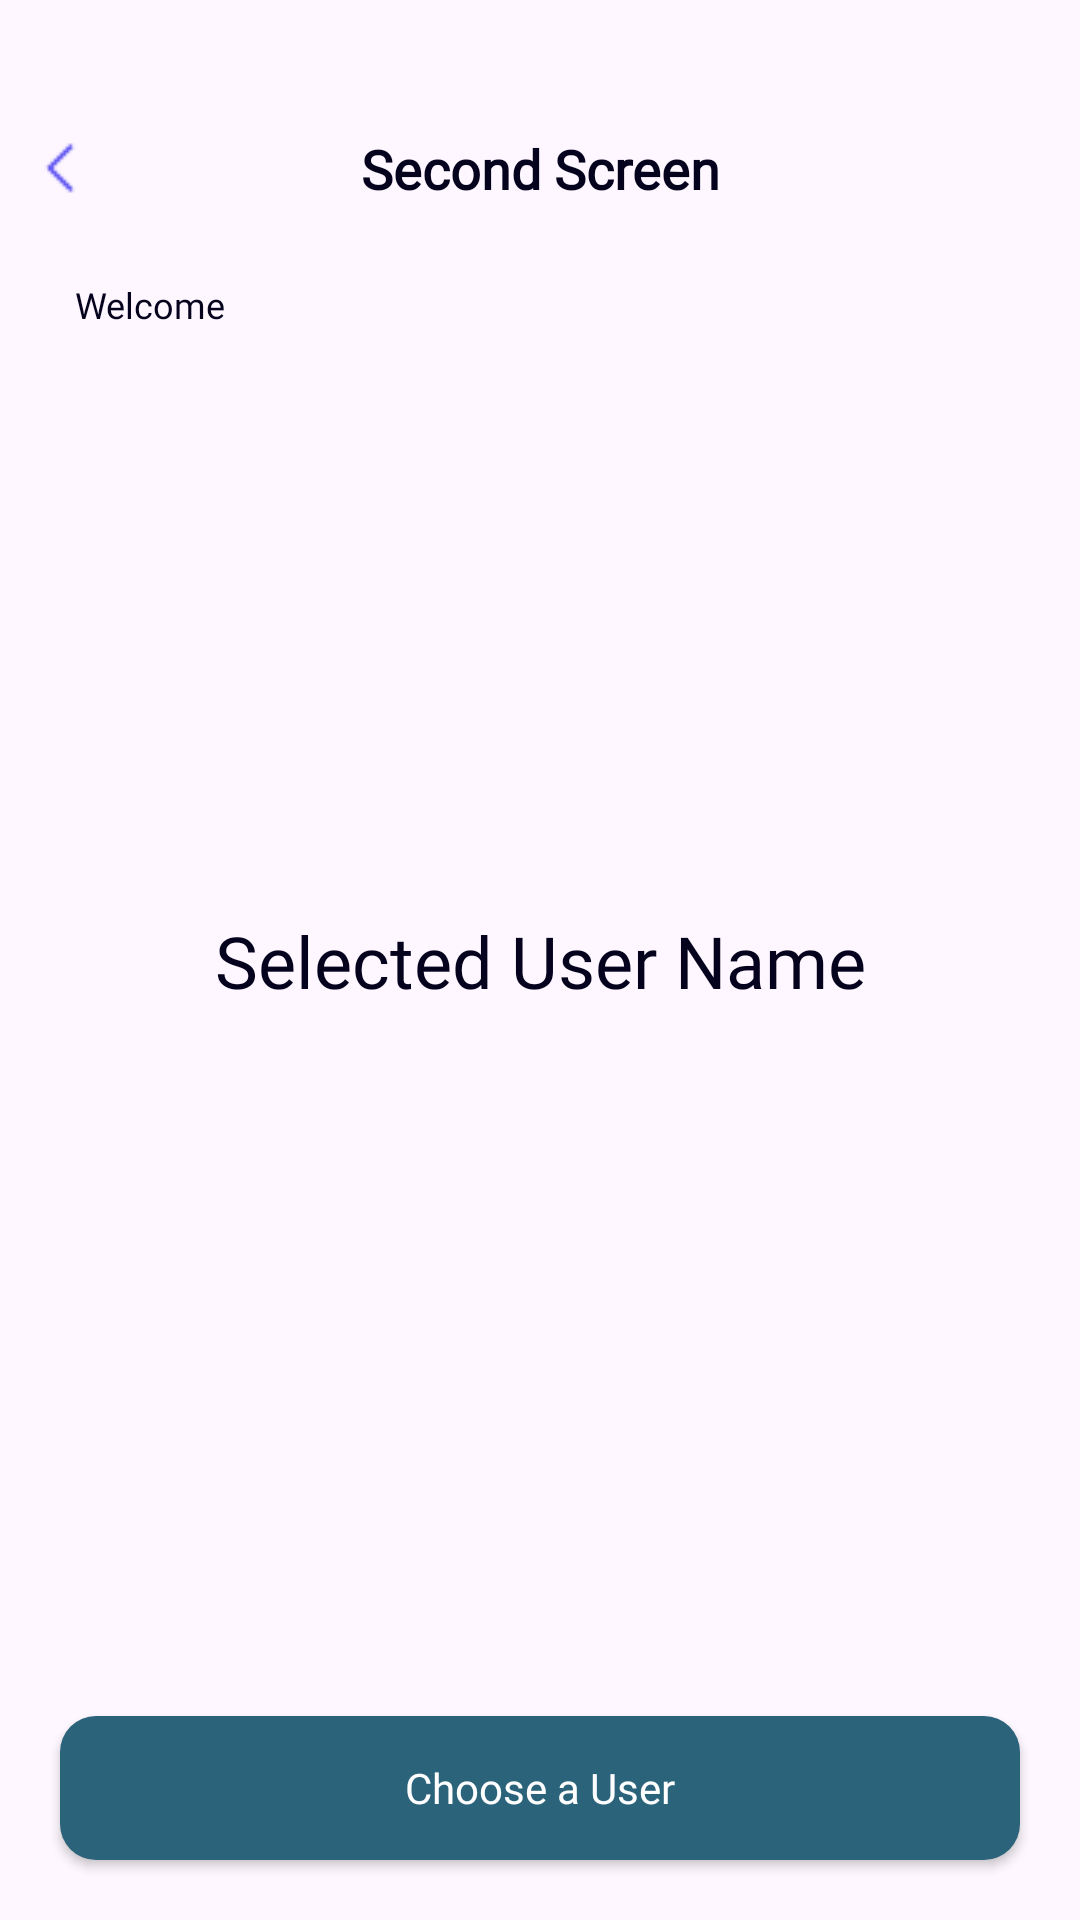

Where icons sit on this 1080w x 1920h app screen, as rect(x1, y1, x2, y2):
Image Back Button: rect(47, 143, 73, 193)
